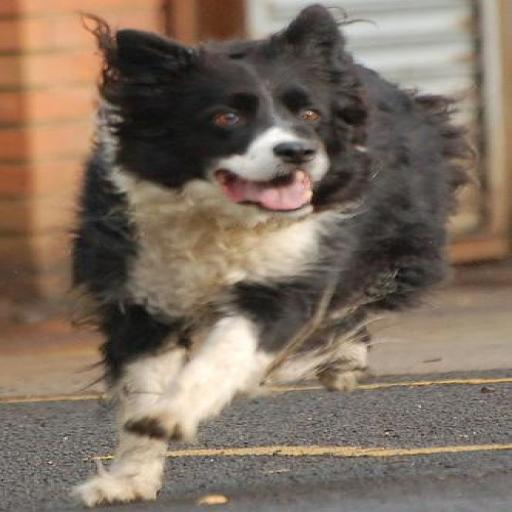dog_face: (100, 11, 372, 212)
